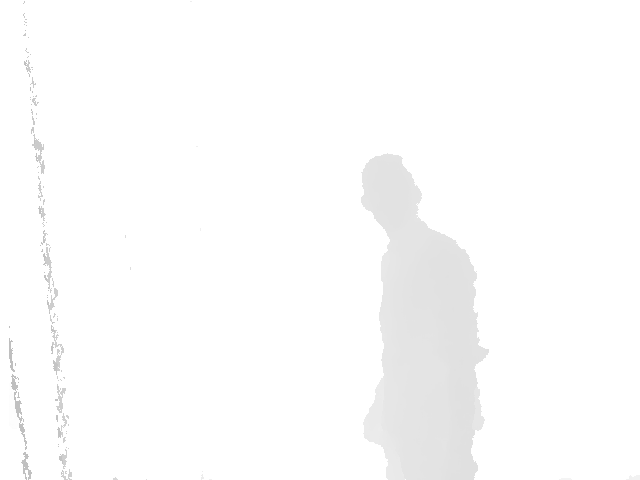head: (360, 153, 422, 229)
person: (359, 153, 491, 480)
